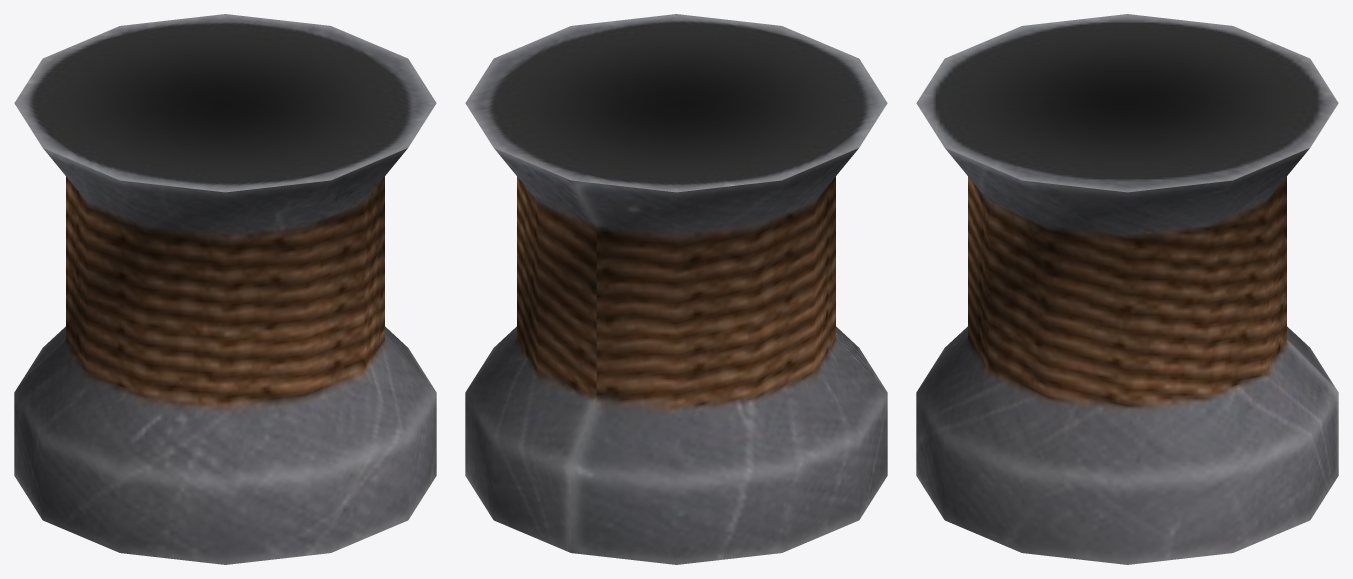
File: port_up.obj
3 views of the same model, side by side, from view 1: azimuth 30°, elevation 25°; view 2: azimuth 150°, elevation 25°; view 3: azimuth 270°, elevation 25° (orthographic).
Parts seen in each view (by area): view 1: Object08; view 2: Object08; view 3: Object08.
Boxes of the visible parts, x1,y1,x2,y2 form: Object08: [14, 14, 436, 564]; Object08: [465, 14, 887, 564]; Object08: [916, 14, 1338, 564].
Size of the model in its own units: 19.96 by 19.43 by 19.96.
Materials: 1 (1 with a texture image).
